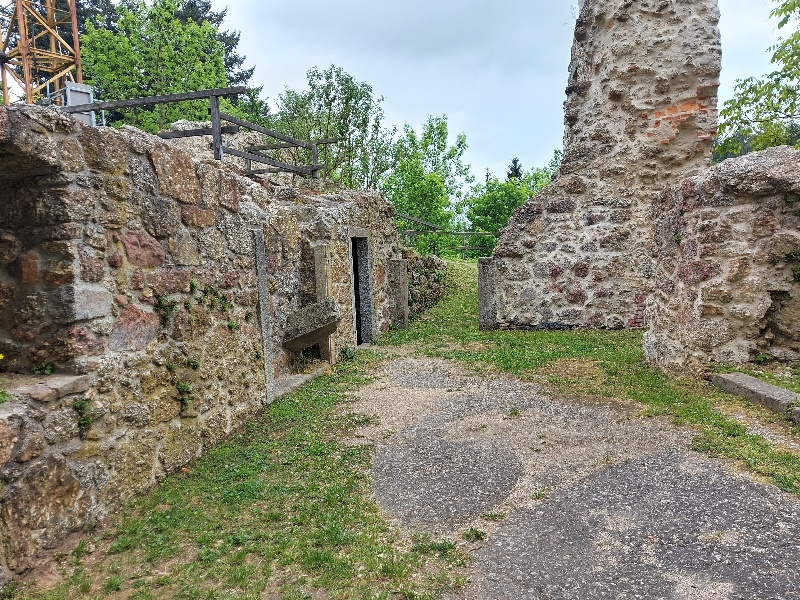door2: (340, 220, 386, 351)
